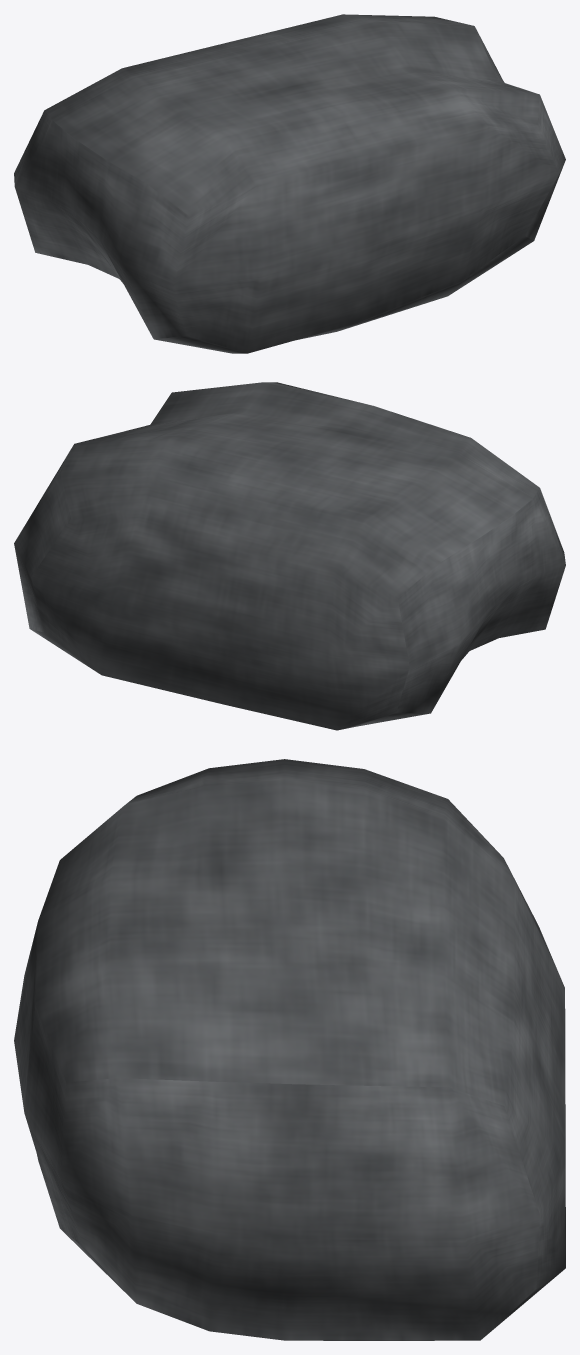
File: Steen 3.fbx
The picture shows the model from 3 angles, top to bottom: view 1: azimuth 30°, elevation 25°; view 2: azimuth 150°, elevation 25°; view 3: azimuth 270°, elevation 25°; orthographic projection. The views are drawn at different scales.
Parts seen in each view (by area): view 1: pCube2; view 2: pCube2; view 3: pCube2.
Part boxes in pixels (x1=…): pCube2: x1=14, y1=14, x2=565, y2=353; pCube2: x1=14, y1=382, x2=565, y2=730; pCube2: x1=14, y1=759, x2=565, y2=1340.
Bounding box in the file's own units: 1.26 × 0.5851 × 0.8608.
